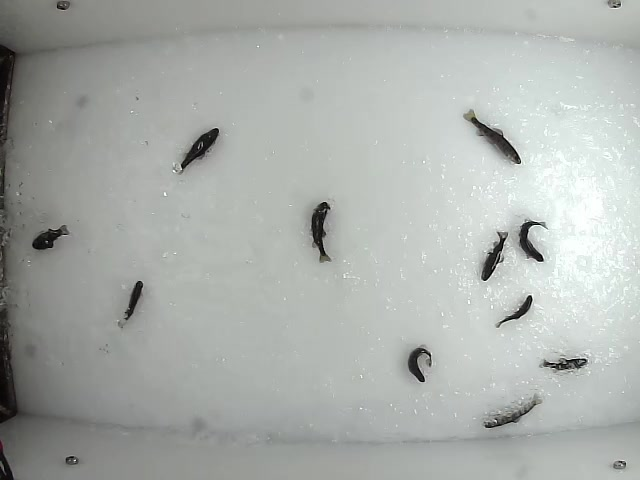fish: (462, 107, 522, 167), (173, 125, 222, 176), (480, 391, 545, 429), (480, 231, 510, 284), (517, 218, 549, 264), (309, 198, 331, 264), (493, 293, 533, 329), (117, 280, 145, 330), (30, 224, 71, 251), (403, 346, 432, 384), (538, 358, 590, 372)
